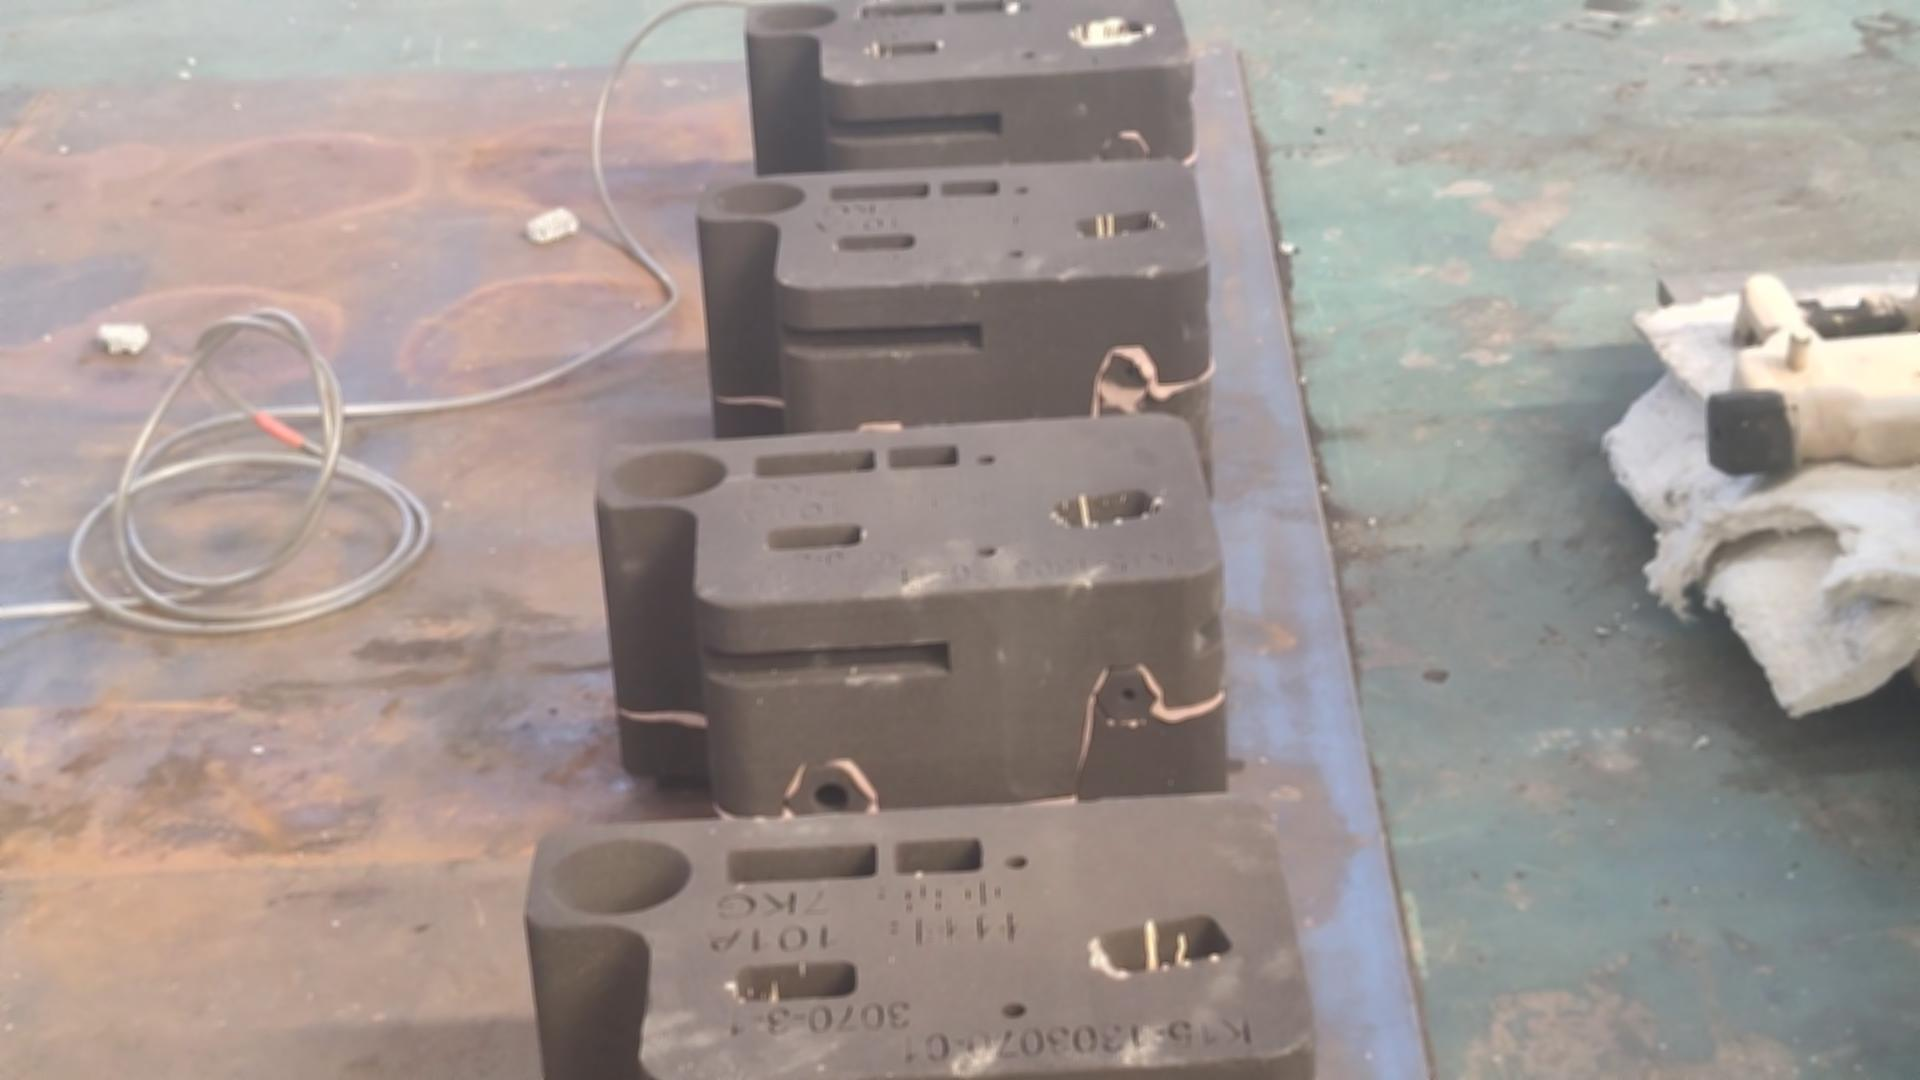pouring hole: (545, 837, 695, 916), (611, 448, 731, 500), (707, 181, 807, 214), (752, 5, 837, 30)
